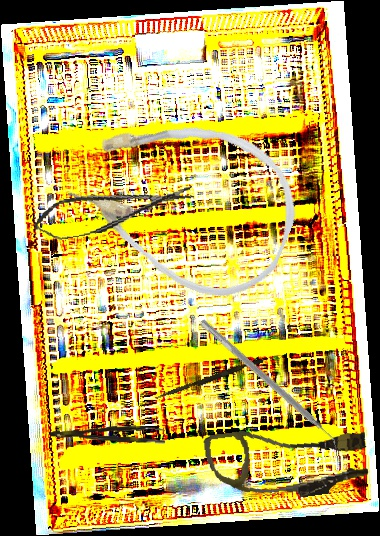Cannula: (52, 85, 316, 316), (202, 414, 373, 510)
Micro Scissor: (30, 177, 198, 244)
Pusher: (154, 355, 264, 404)
Spatula Surgical: (194, 318, 345, 453)
Tissue Forceps: (49, 421, 166, 444)
